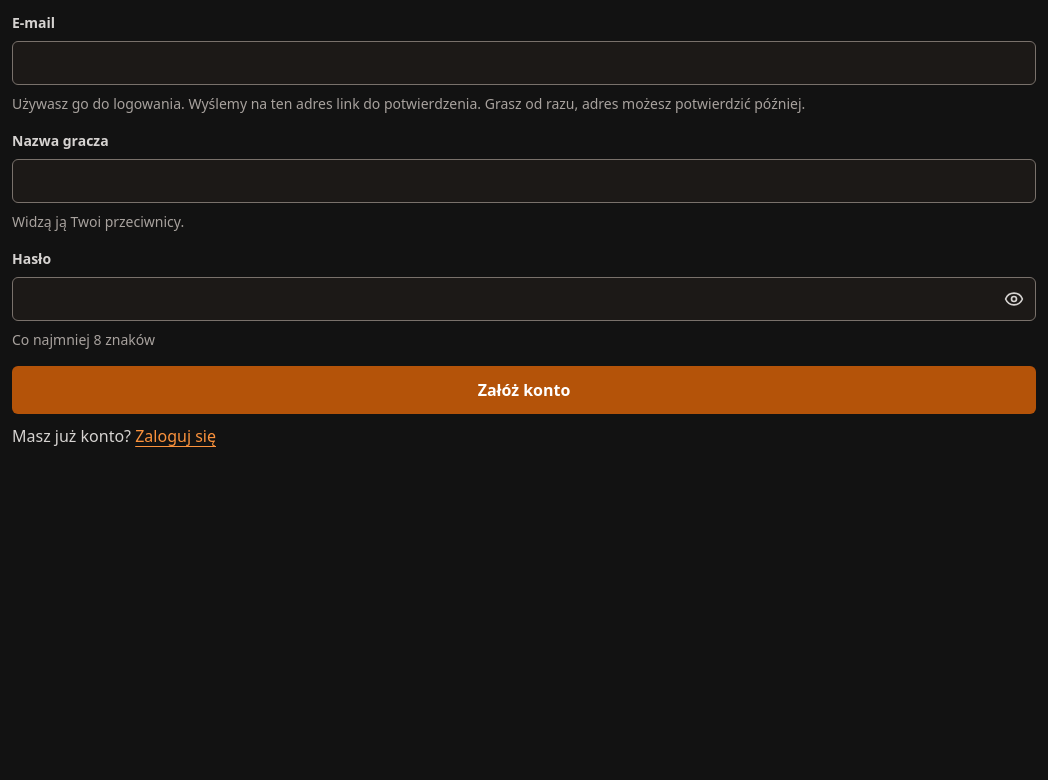
Scenario: RegisterForm › shows the uniform conflict message above the form, without naming a field
Type "ala@example.com" into the field labelled "E-mail" at (524, 63), box [12, 41, 1036, 85]
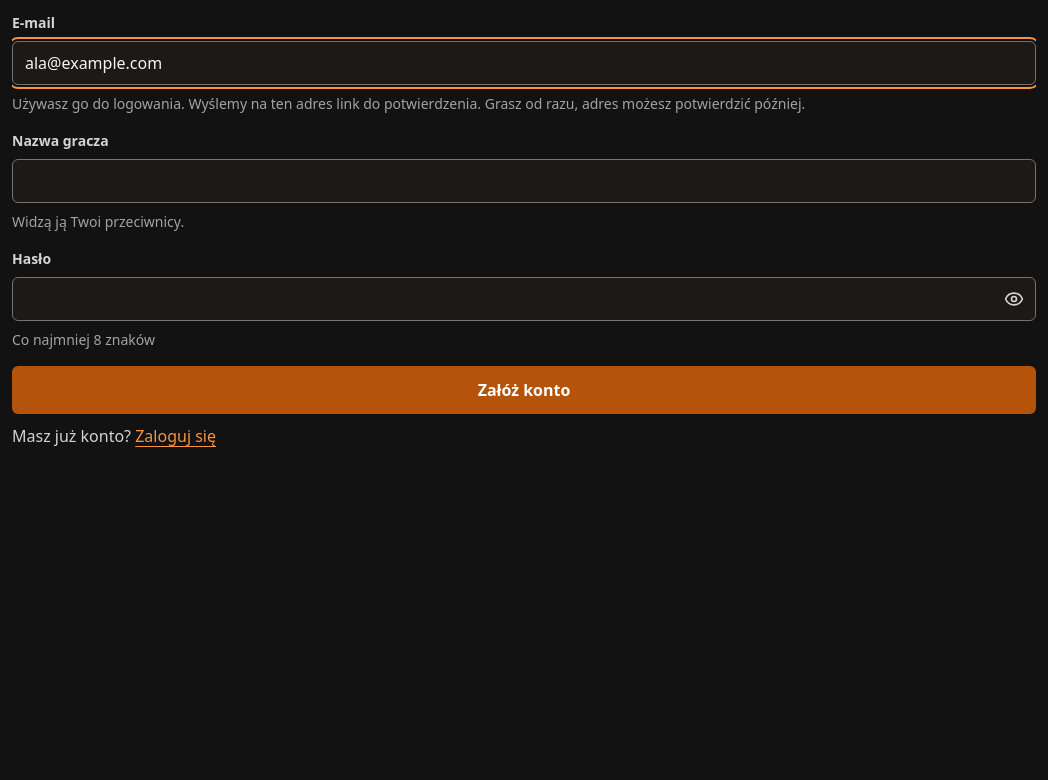
Type "Ala_7" into the field labelled "Nazwa gracza" at (524, 181), box [12, 159, 1036, 203]
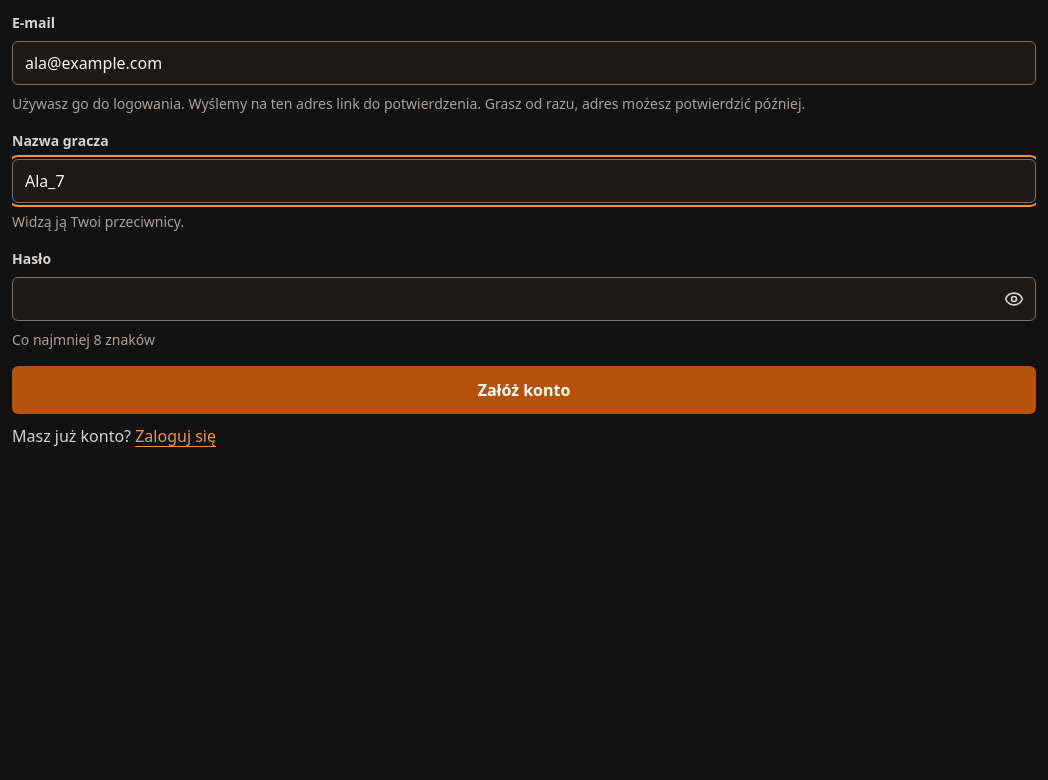
Type "secret123" into the password field labelled "Hasło" at (524, 299), box [12, 277, 1036, 321]
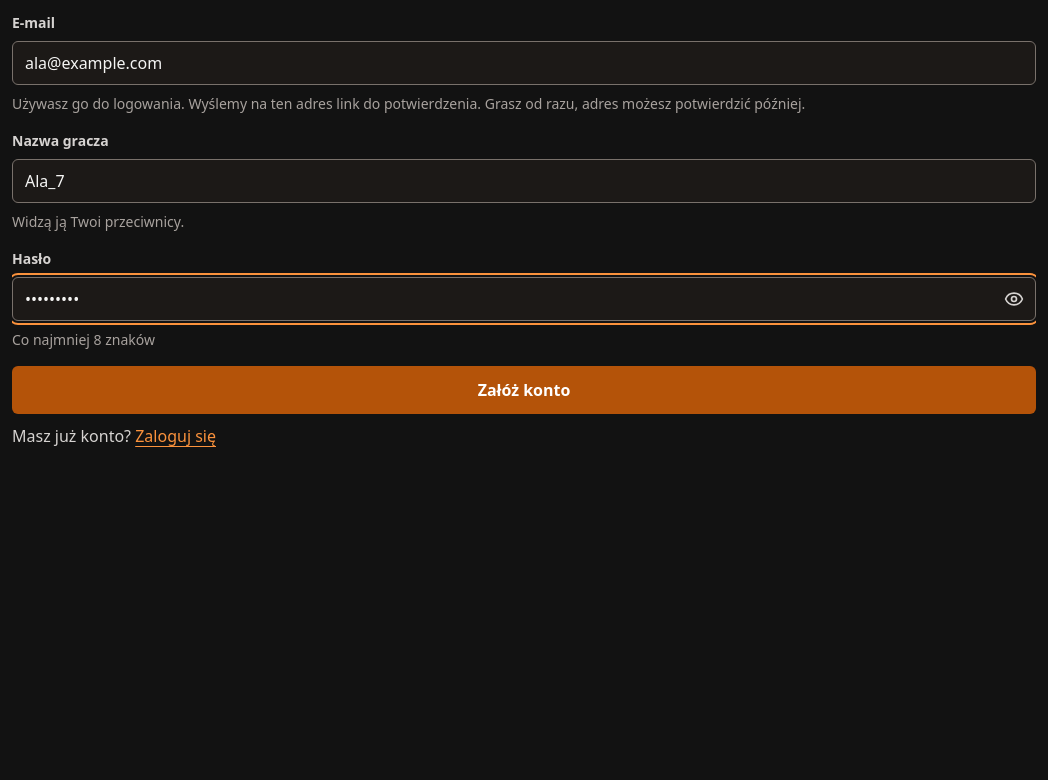
Click the button "Załóż konto" at (524, 390), box [12, 366, 1036, 414]
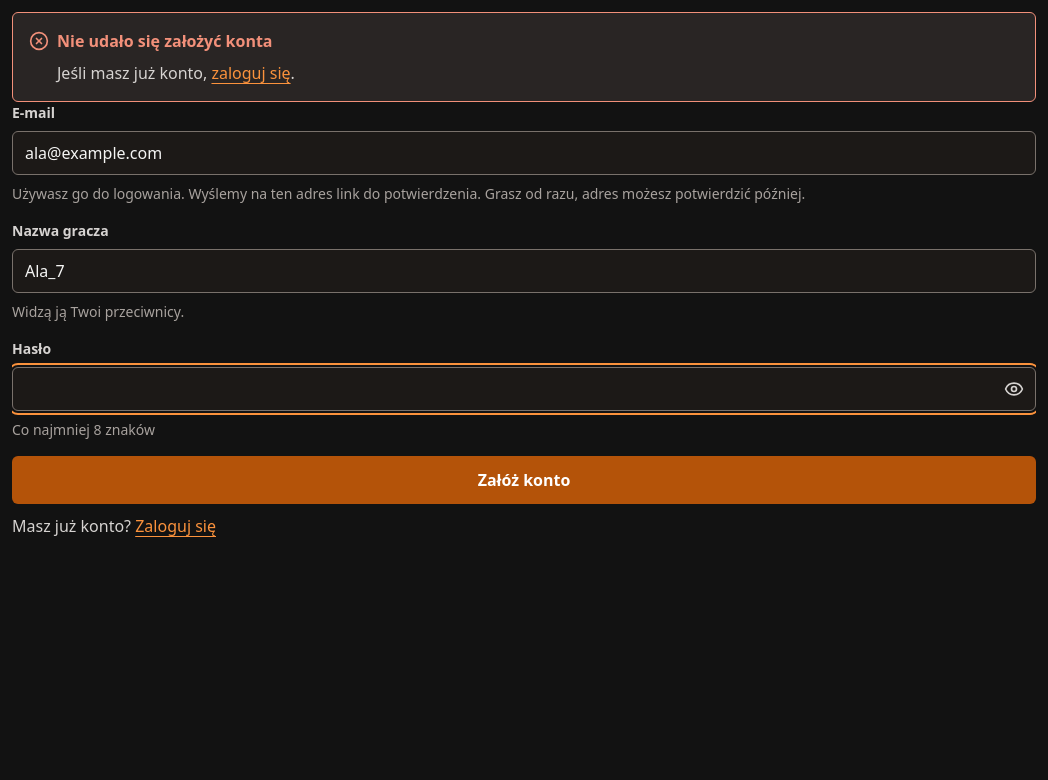
Result: the element with test id "register-error" shows "Nie udało się założyć konta" at [57, 30, 272, 52]
Result: the link "zaloguj się" is shown at [212, 62, 291, 84]
